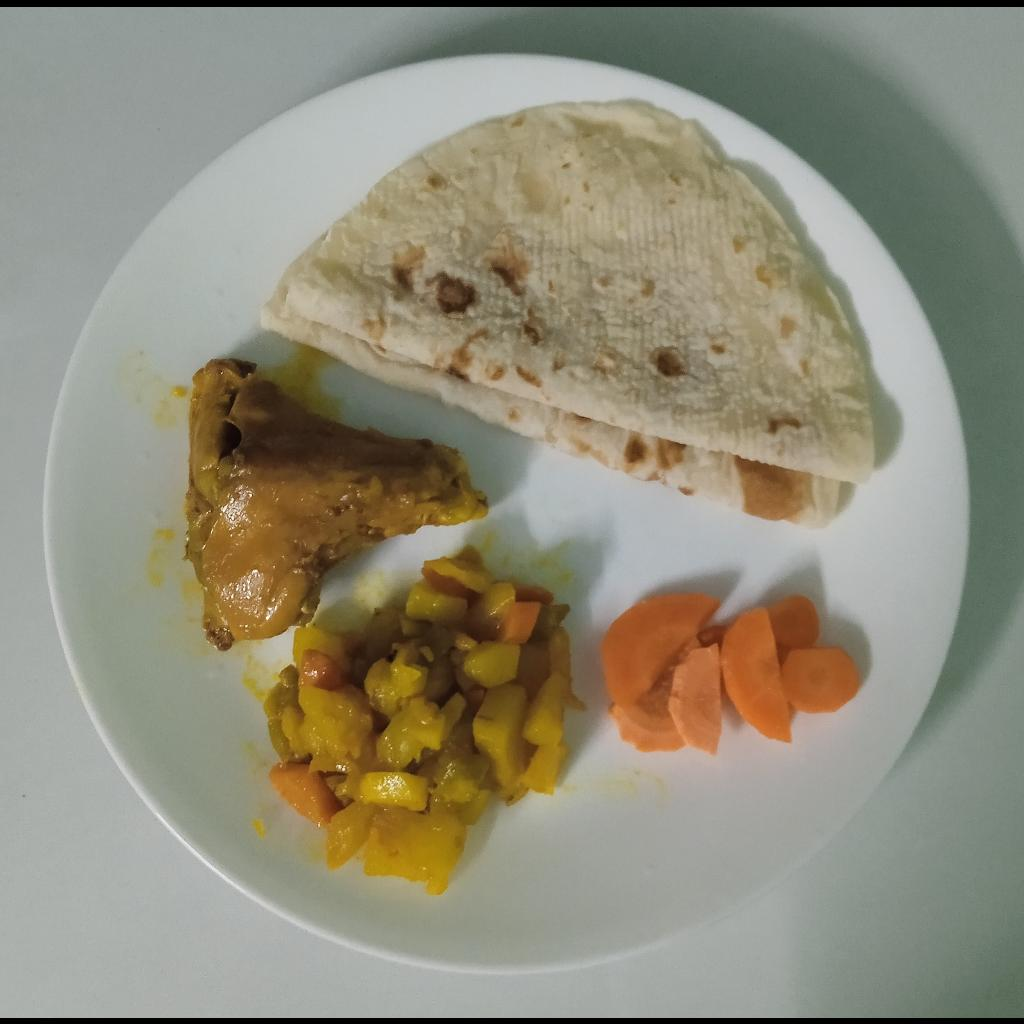carrot: (596, 587, 866, 758)
chicken: (186, 359, 489, 655)
ruti: (259, 100, 876, 532)
vegetable: (263, 546, 580, 897)
